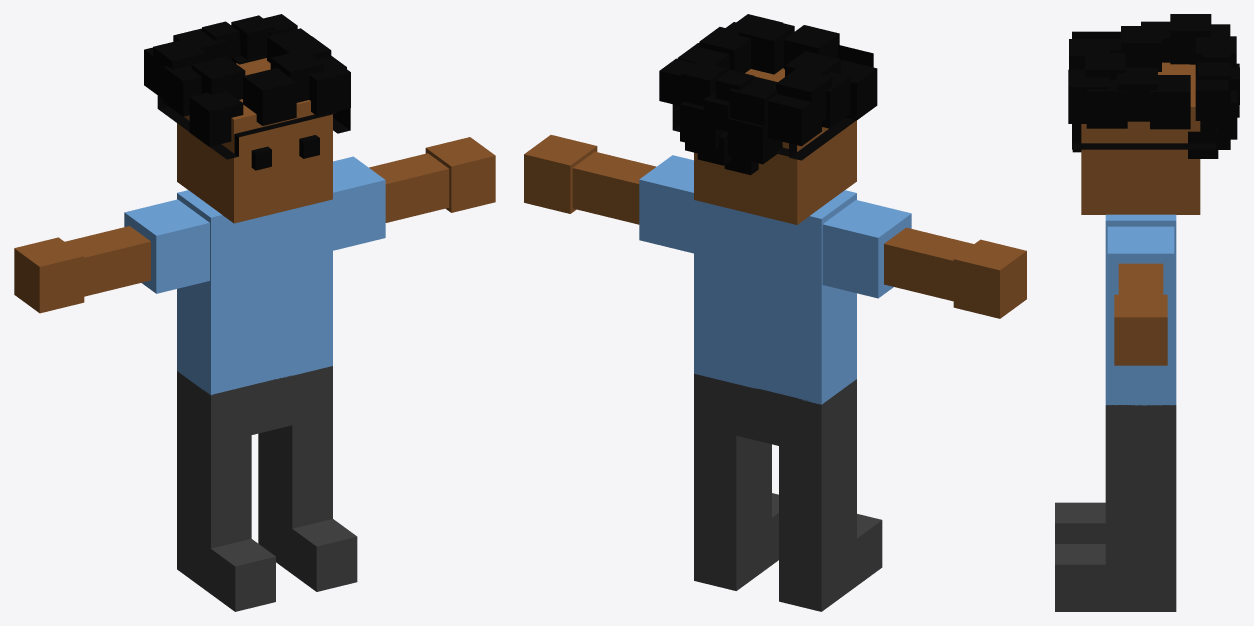
File: char_MC.fbx
The picture shows the model from 3 angles, left to right: view 1: azimuth 30°, elevation 25°; view 2: azimuth 150°, elevation 25°; view 3: azimuth 270°, elevation 25°; orthographic projection. The views are drawn at different scales.
Parts seen in each view (by area): view 1: Cube.022; view 2: Cube.022; view 3: Cube.022.
Boxes of the visible parts, <box> form: Cube.022: <box>14,14,495,611</box>; Cube.022: <box>524,14,1026,611</box>; Cube.022: <box>1055,14,1239,611</box>.
Bounding box in the file's own units: 920 × 988 × 311.
